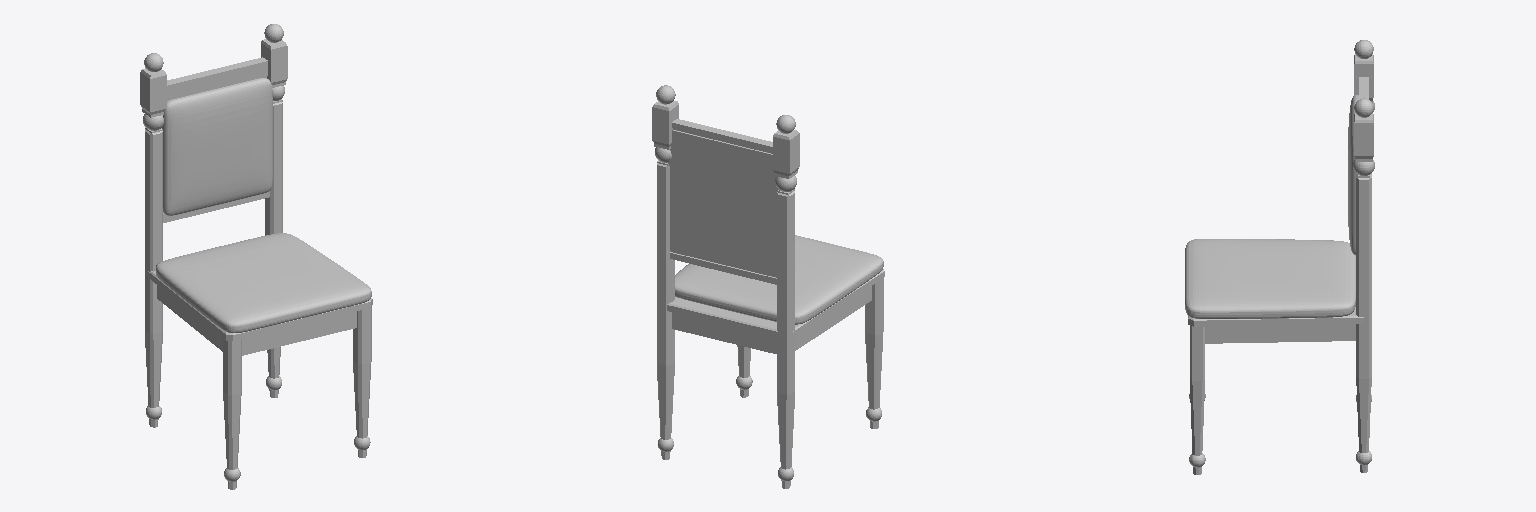
File: classicChair.obj
3 views of the same model, side by side, from view 1: azimuth 30°, elevation 25°; view 2: azimuth 150°, elevation 25°; view 3: azimuth 270°, elevation 25° (orthographic).
Parts seen in each view (by area): view 1: Body_Body1; view 2: Body_Body1; view 3: Body_Body1.
Part boxes in pixels (left/top/right/bottom): Body_Body1: left=140, top=24, right=372, bottom=489; Body_Body1: left=652, top=85, right=884, bottom=488; Body_Body1: left=1185, top=40, right=1374, bottom=474.
Bounding box in the file's own units: 0.4311 × 1.03 × 0.4797.